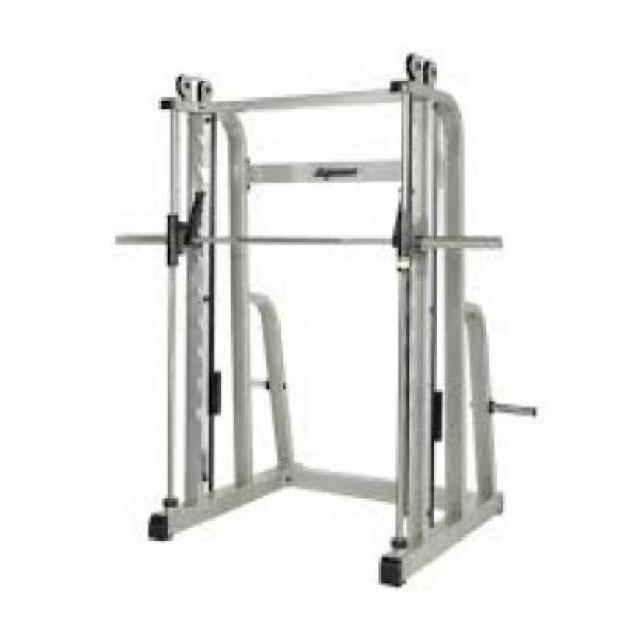smith machine: (115, 54, 537, 586)
